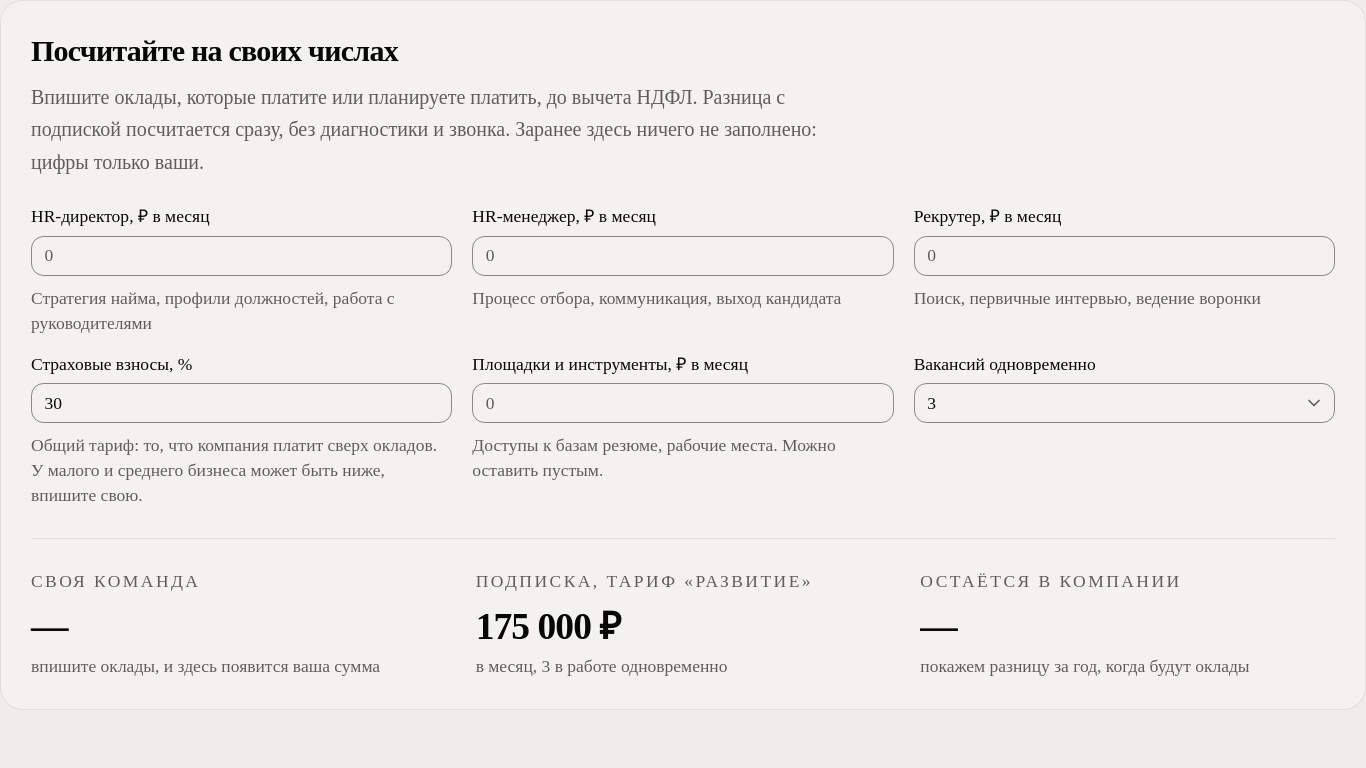
Test: CostCalculator › ставка взносов правится и пересчитывает итог
Type "200000" into the number field labelled "HR-директор, ₽ в месяц".
click(242, 256); type("200000")  # box [31, 236, 452, 276]
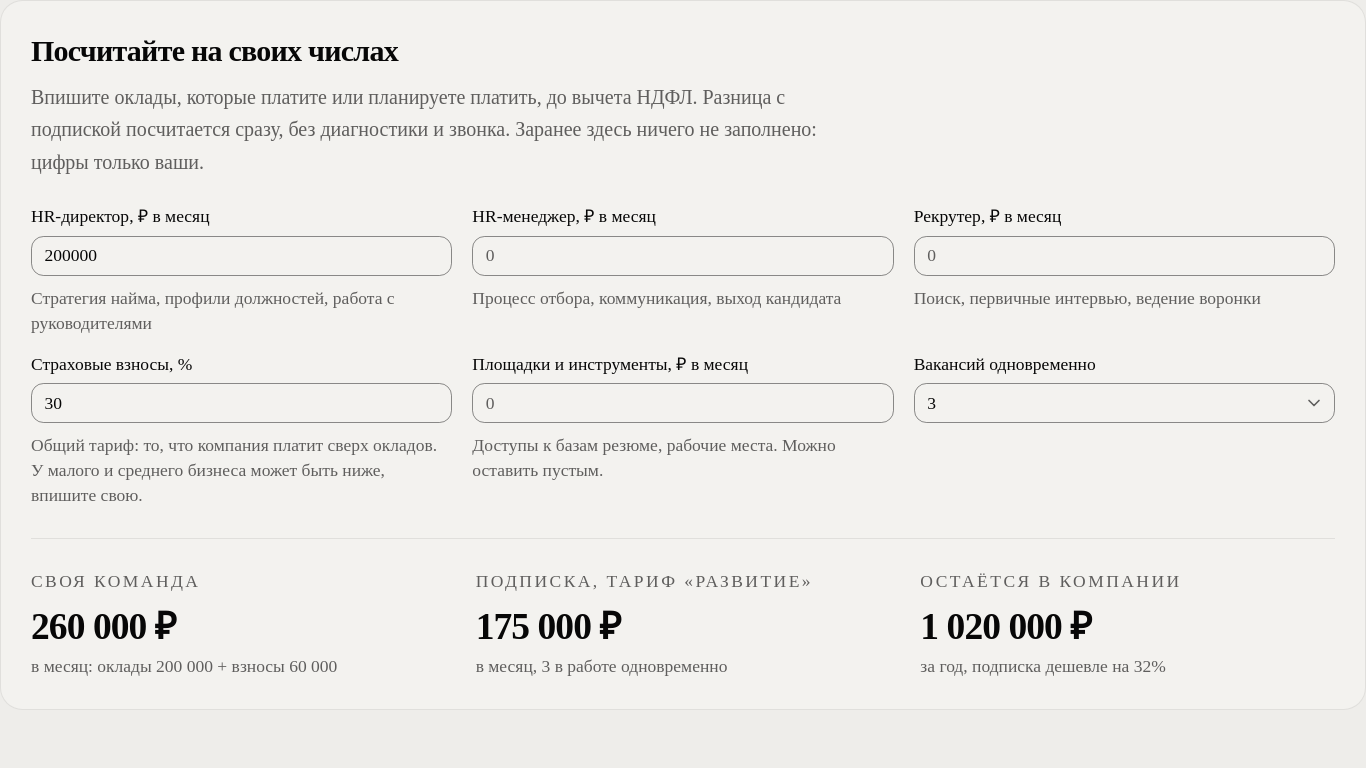
Type "130000" into the number field labelled "HR-менеджер, ₽ в месяц".
click(683, 256); type("130000")  # box [472, 236, 894, 276]
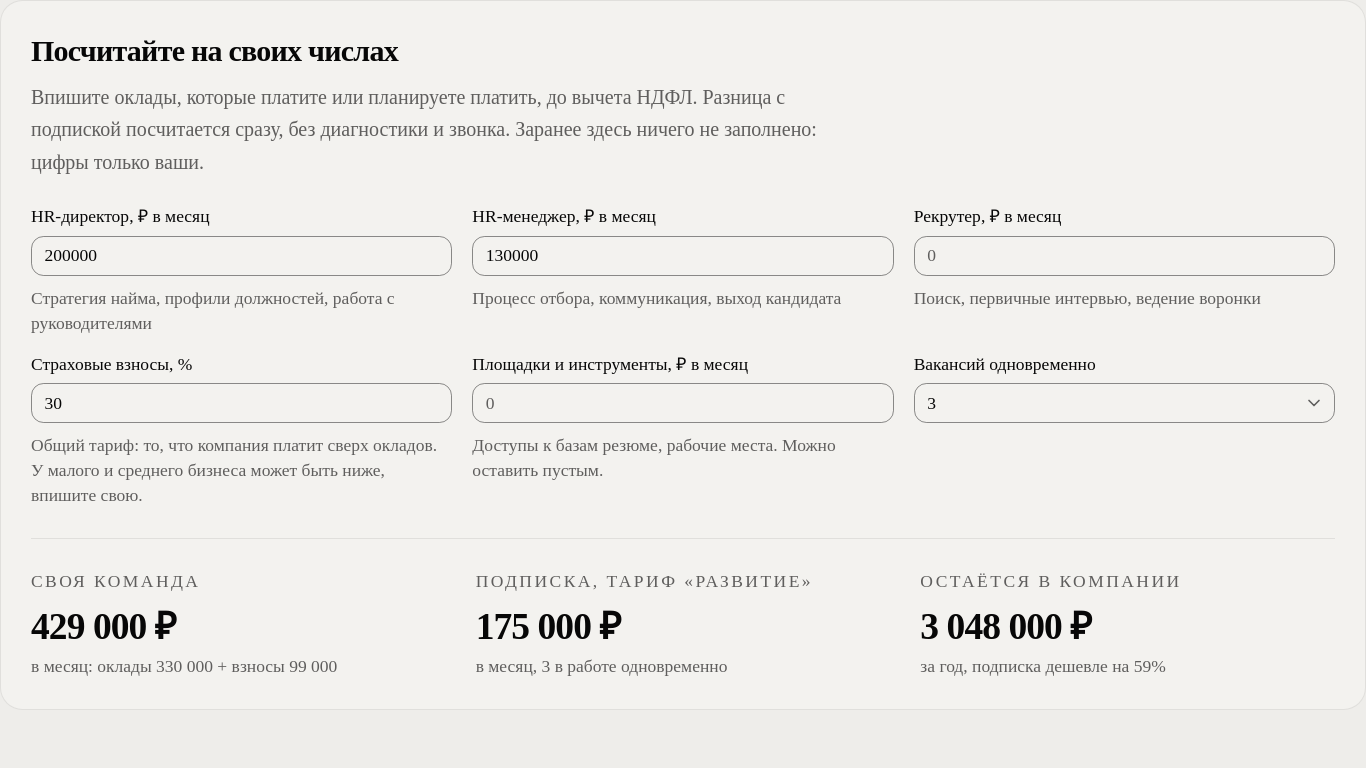
Type "70000" into the number field labelled "Рекрутер, ₽ в месяц".
click(1124, 256); type("70000")  # box [914, 236, 1335, 276]
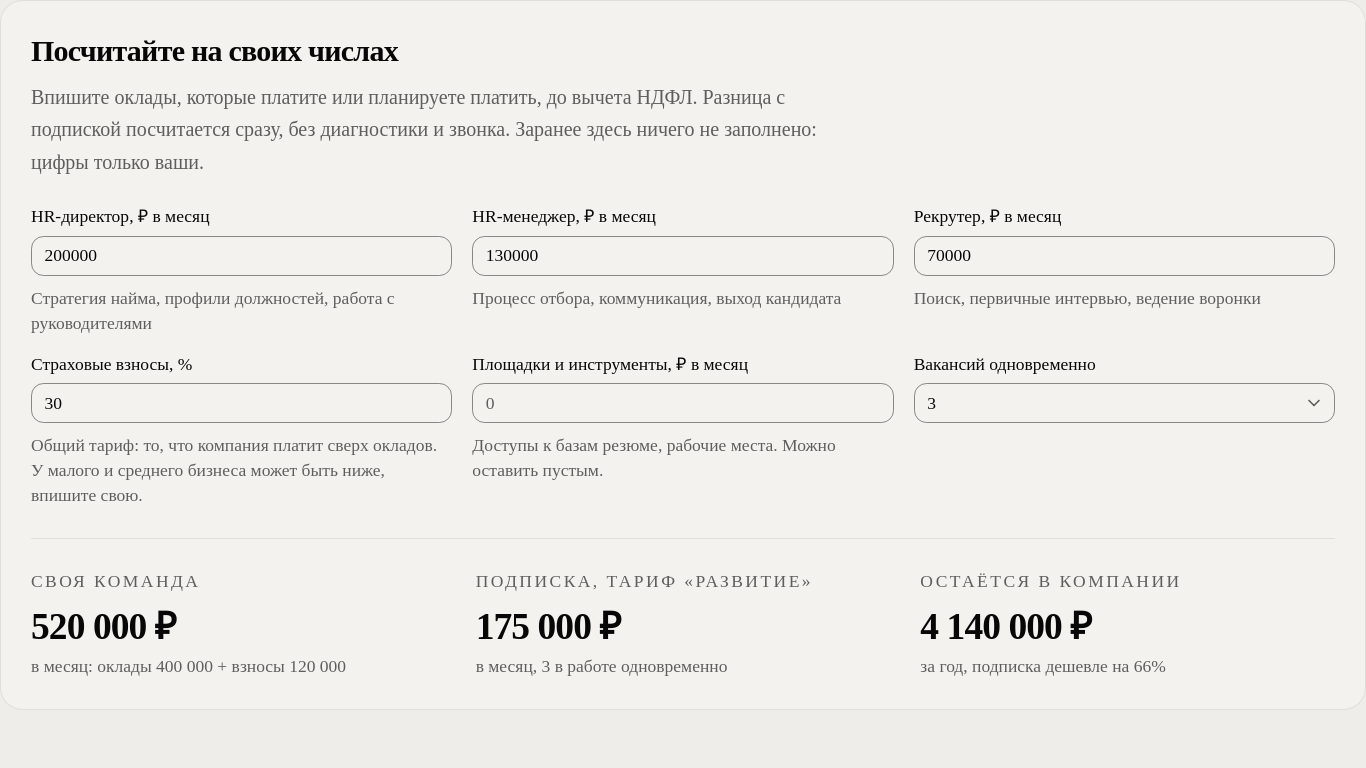
Replace the text in the number field labelled "Страховые взносы, %" with "15" at point(242, 404), box [31, 384, 452, 424]
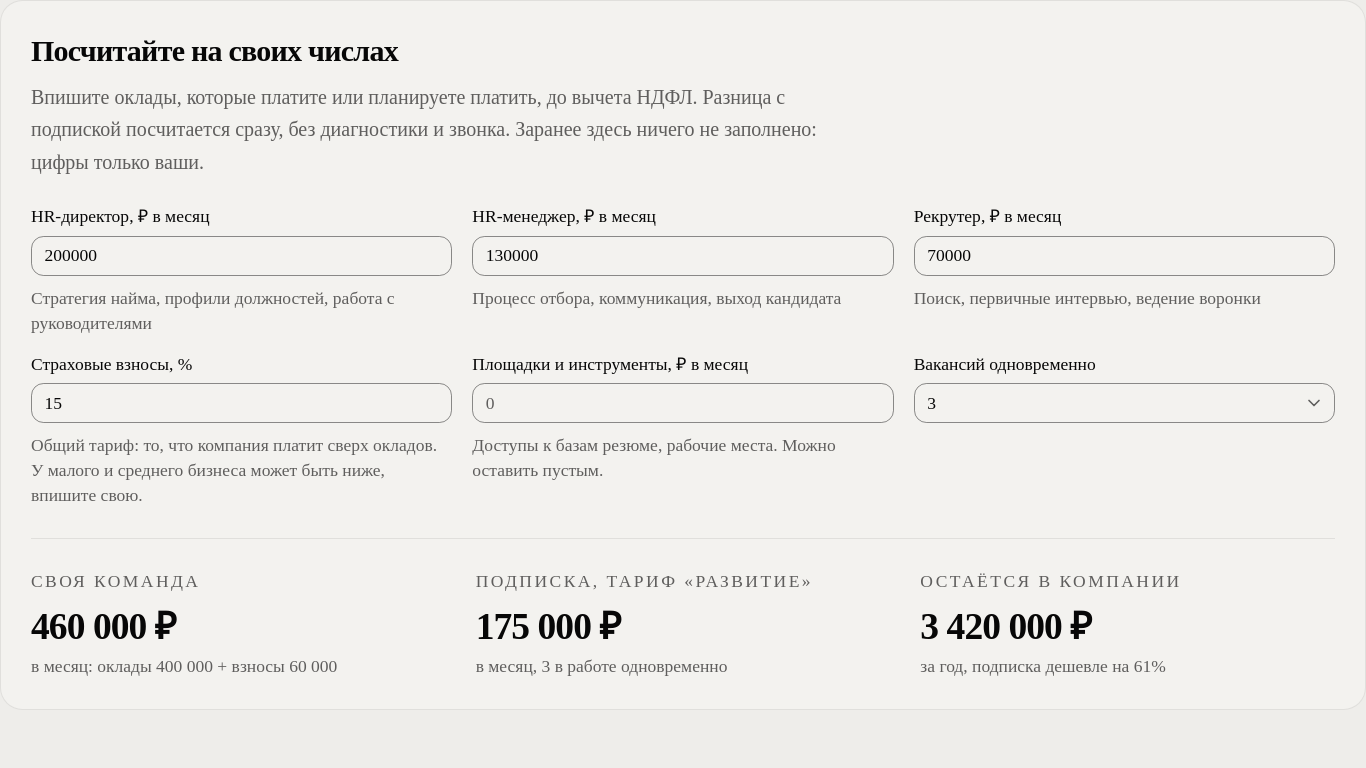
Expected: the element that starts with "Своя команда" shows "460 000 ₽", [31, 606, 176, 648]
Expected: the element that starts with "Своя команда" shows "взносы 60 000", [31, 656, 337, 676]
